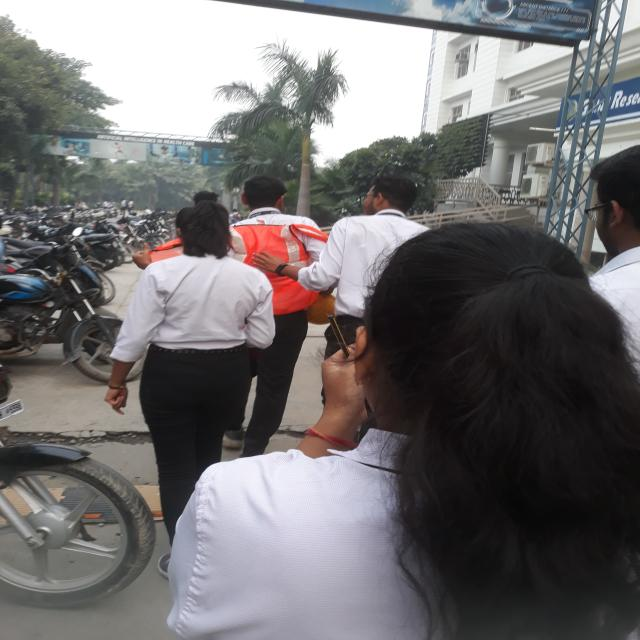unsafe: (125, 194, 265, 513), (305, 172, 427, 382)
